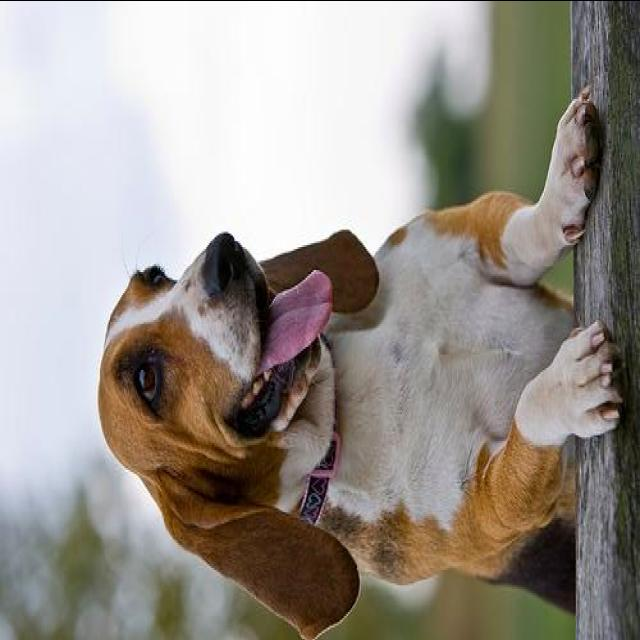basset: (97, 79, 622, 636)
